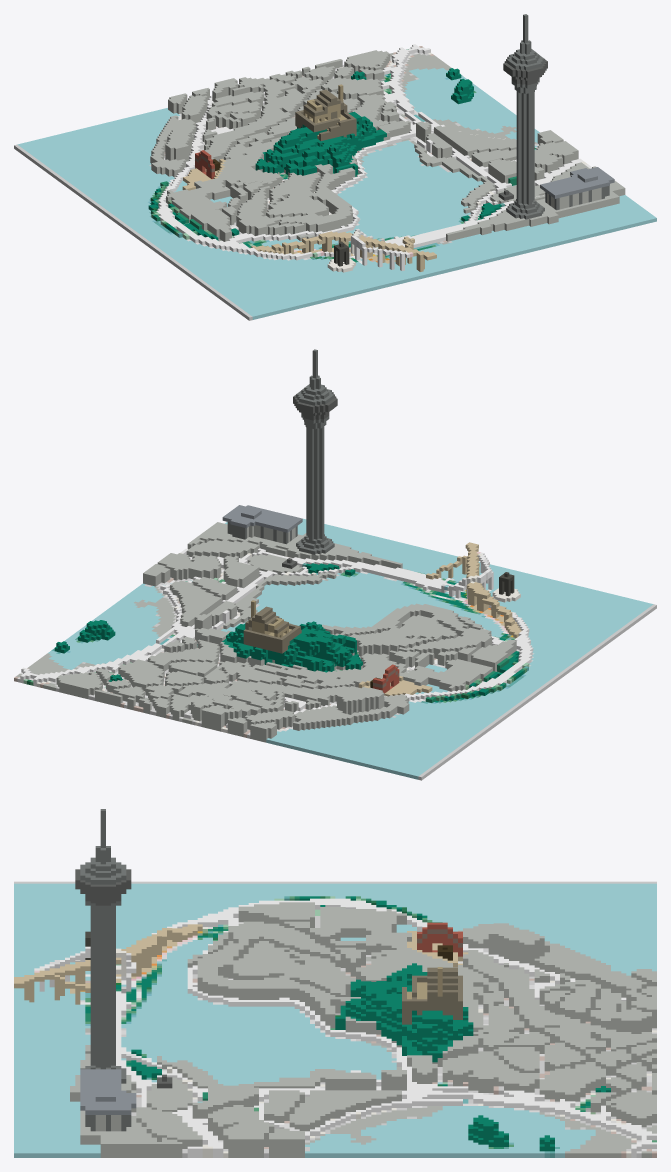
The model's file is 210519newbigMacaumap-6.obj.
The picture shows the model from 3 angles, top to bottom: view 1: azimuth 30°, elevation 25°; view 2: azimuth 150°, elevation 25°; view 3: azimuth 270°, elevation 25°; orthographic projection. The views are drawn at different scales.
Size of the model in its own units: 12.6 by 6.1 by 12.6.
1 material, 1 textured.
